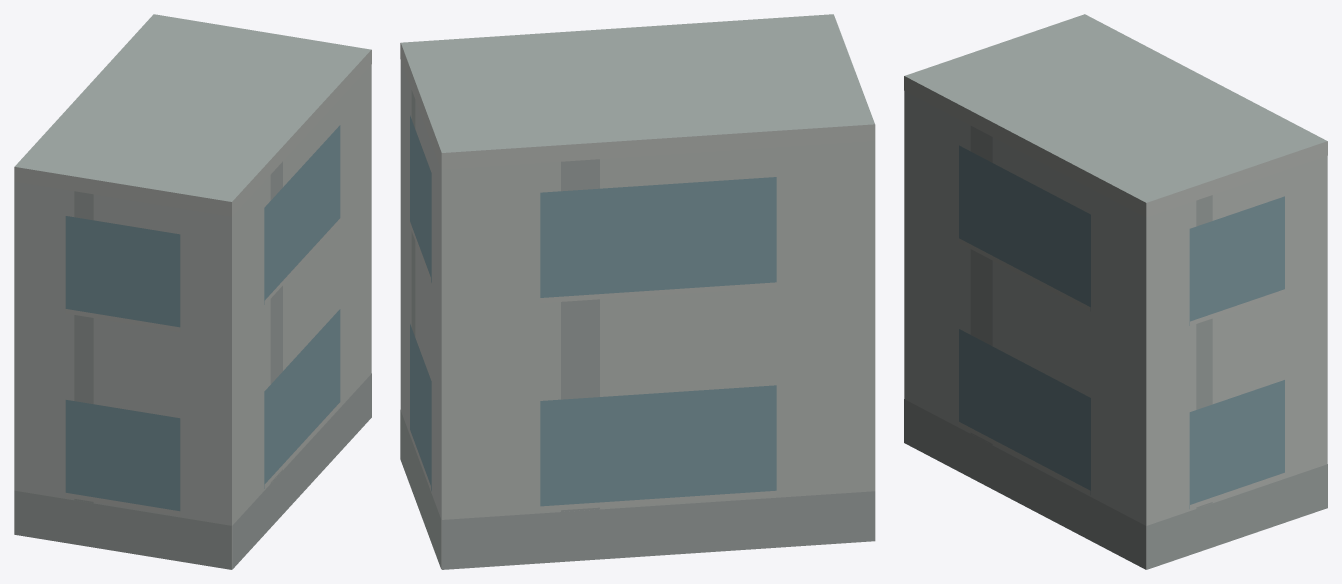
Rendered from survey-upis-32571988.glb.
3 views of the same model, side by side, from view 1: azimuth 30°, elevation 25°; view 2: azimuth 150°, elevation 25°; view 3: azimuth 270°, elevation 25° (orthographic). The views are drawn at different scales.
Parts seen in each view (by area): view 1: survey-upis-32571988.tmp; view 2: survey-upis-32571988.tmp; view 3: survey-upis-32571988.tmp.
Part boxes in pixels (x1,y1,x2,y2): survey-upis-32571988.tmp: (14, 14, 371, 569); survey-upis-32571988.tmp: (400, 14, 875, 569); survey-upis-32571988.tmp: (904, 14, 1327, 569).
Bounding box in the file's own units: 6.74 × 6.1 × 6.39.
